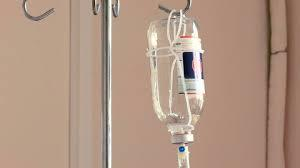Iv_Bottle: (147, 16, 204, 142)
